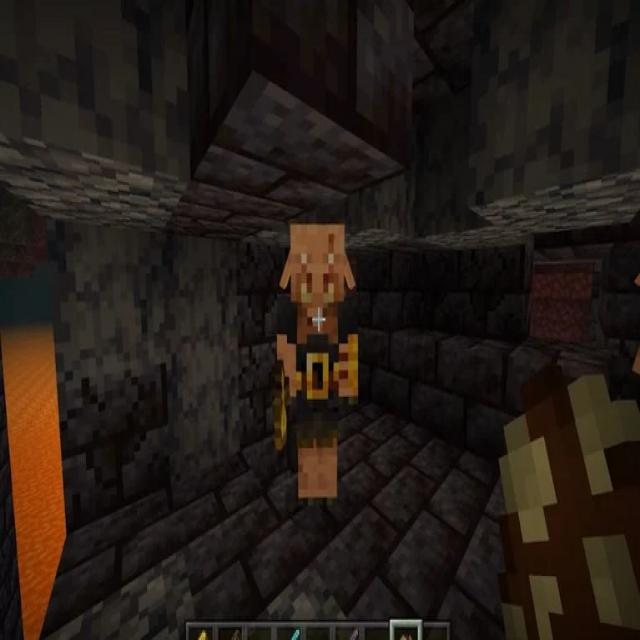Piglin: (274, 218, 360, 502)
